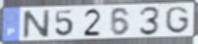2: (82, 8, 103, 38)
3: (138, 5, 161, 37)
5: (53, 9, 76, 38)
6: (109, 6, 133, 37)
G: (165, 6, 191, 35)
N: (21, 8, 51, 40)
